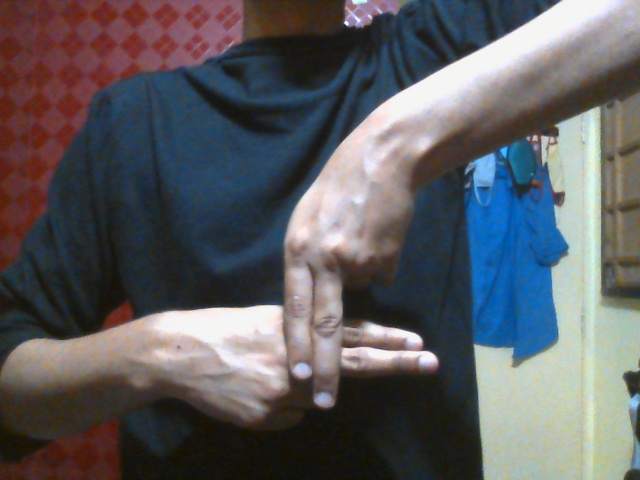F: (173, 162, 441, 434)
